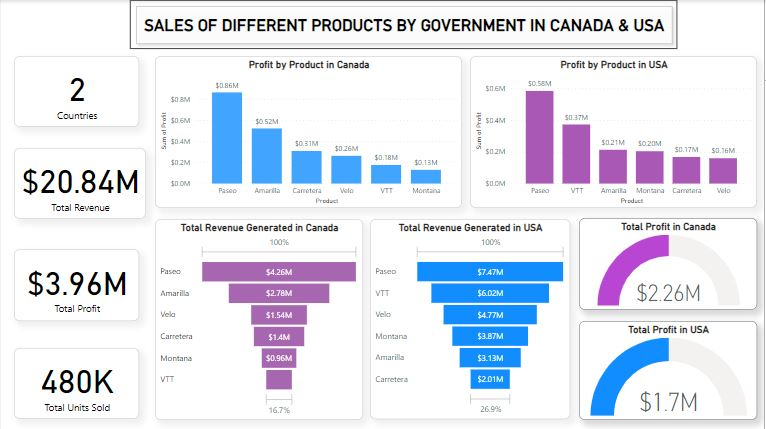

This screenshot's page, from the dashboard's own definition file:
{"tool":"powerbi","page":{"name":"Page 1","canvas":[1280,720],"ordinal":0},"visuals":[{"type":"card","fields":{"Values":["Sum(Data_cleaned.Profit)"]},"box":[21.8,417.7,209.7,120.8],"z":0},{"type":"card","fields":{"Values":["Sum(Data_cleaned.Revenue)"]},"box":[21.8,248.3,221.4,119.1],"z":1000},{"type":"card","fields":{"Values":["Sum(Data_cleaned.Units Sold)"]},"box":[21.8,583.8,209.7,119.1],"z":2000},{"type":"shape","box":[216.1,0,917.9,82.1],"z":3000},{"type":"card","fields":{"Values":["Data_cleaned.count_country"]},"box":[21.8,93.9,209.7,119.1],"z":4000},{"type":"funnel","title":"Total Revenue Generated in Canada","fields":{"Y":["Sum(Data_cleaned.Revenue)"],"Category":["Data_cleaned.Product"]},"box":[258.3,367.4,348.9,337.2],"z":5000},{"type":"funnel","title":"Total Revenue Generated in USA","fields":{"Y":["Sum(Data_cleaned.Revenue)"],"Category":["Data_cleaned.Product"]},"box":[619,367.4,335.5,335.5],"z":6000},{"type":"clusteredColumnChart","title":"Profit by Product in Canada","fields":{"Category":["Data_cleaned.Product"],"Y":["Sum(Data_cleaned.Profit)"]},"box":[258.3,93.9,515,255],"z":7000},{"type":"clusteredColumnChart","title":"Profit by Product in USA","fields":{"Category":["Data_cleaned.Product"],"Y":["Sum(Data_cleaned.Profit)"]},"box":[786.8,93.9,481.5,255],"z":8000},{"type":"gauge","title":"Total Profit in Canada","fields":{"Y":["Sum(Data_cleaned.Profit)"]},"box":[969.6,365.7,298.6,154.3],"z":9000},{"type":"gauge","title":"Total Profit in USA","fields":{"Y":["Sum(Data_cleaned.Profit)"]},"box":[969.6,538.5,298.6,166.1],"z":10000}]}

Visuals, with their boxes in screenshot pixels (x1, y1, x2, y2), scaled from the page's 1280x720 canvas onto the 766x429 screenshot:
card - Sum(Data_cleaned.Profit): 13, 249, 139, 321
card - Sum(Data_cleaned.Revenue): 13, 148, 146, 219
card - Sum(Data_cleaned.Units Sold): 13, 348, 139, 419
shape: 129, 0, 679, 49
card - Data_cleaned.count_country: 13, 56, 139, 127
"Total Revenue Generated in Canada" funnel: 155, 219, 363, 420
"Total Revenue Generated in USA" funnel: 370, 219, 571, 419
"Profit by Product in Canada" clusteredColumnChart: 155, 56, 463, 208
"Profit by Product in USA" clusteredColumnChart: 471, 56, 759, 208
"Total Profit in Canada" gauge: 580, 218, 759, 310
"Total Profit in USA" gauge: 580, 321, 759, 420
